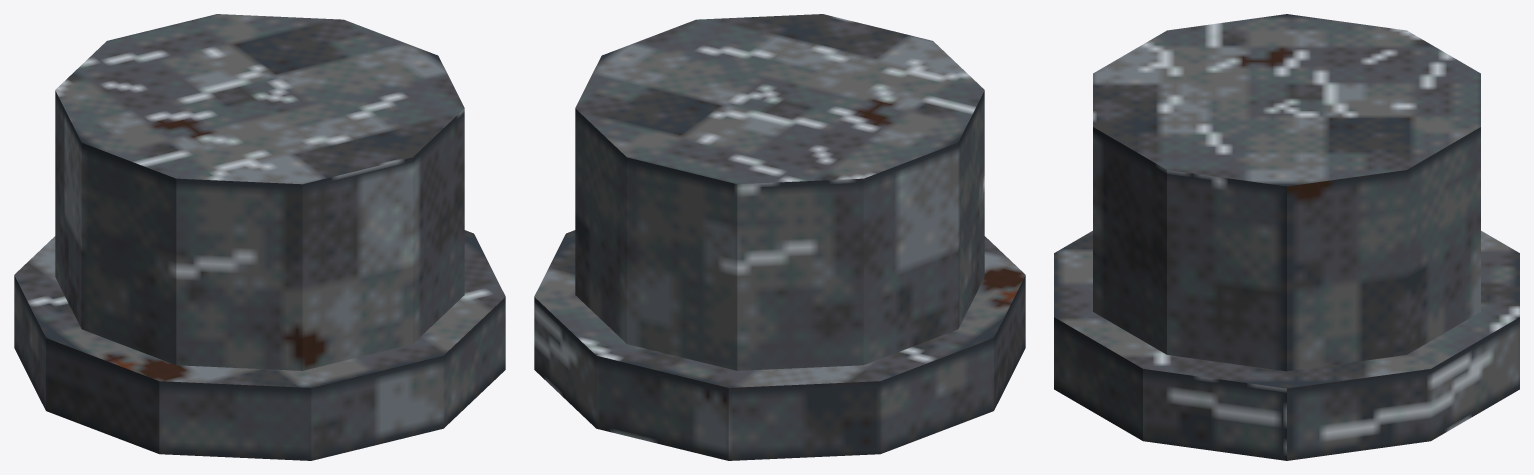
Rendered from SM_Helmet_Steel_01.fbx.
The picture shows the model from 3 angles, left to right: view 1: azimuth 30°, elevation 25°; view 2: azimuth 150°, elevation 25°; view 3: azimuth 270°, elevation 25°; orthographic projection.
Parts seen in each view (by area): view 1: SM_Helmet_Steel_01; view 2: SM_Helmet_Steel_01; view 3: SM_Helmet_Steel_01.
Boxes of the visible parts, x1,y1,x2,y2 form: SM_Helmet_Steel_01: [14, 14, 505, 460]; SM_Helmet_Steel_01: [534, 14, 1025, 460]; SM_Helmet_Steel_01: [1054, 14, 1519, 460].
Bounding box in the file's own units: 0.276 × 0.16 × 0.2625.
Materials: 1 (1 with a texture image).
